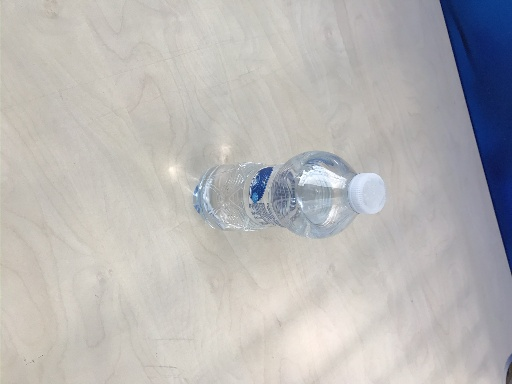Acqua: (188, 150, 391, 239)
